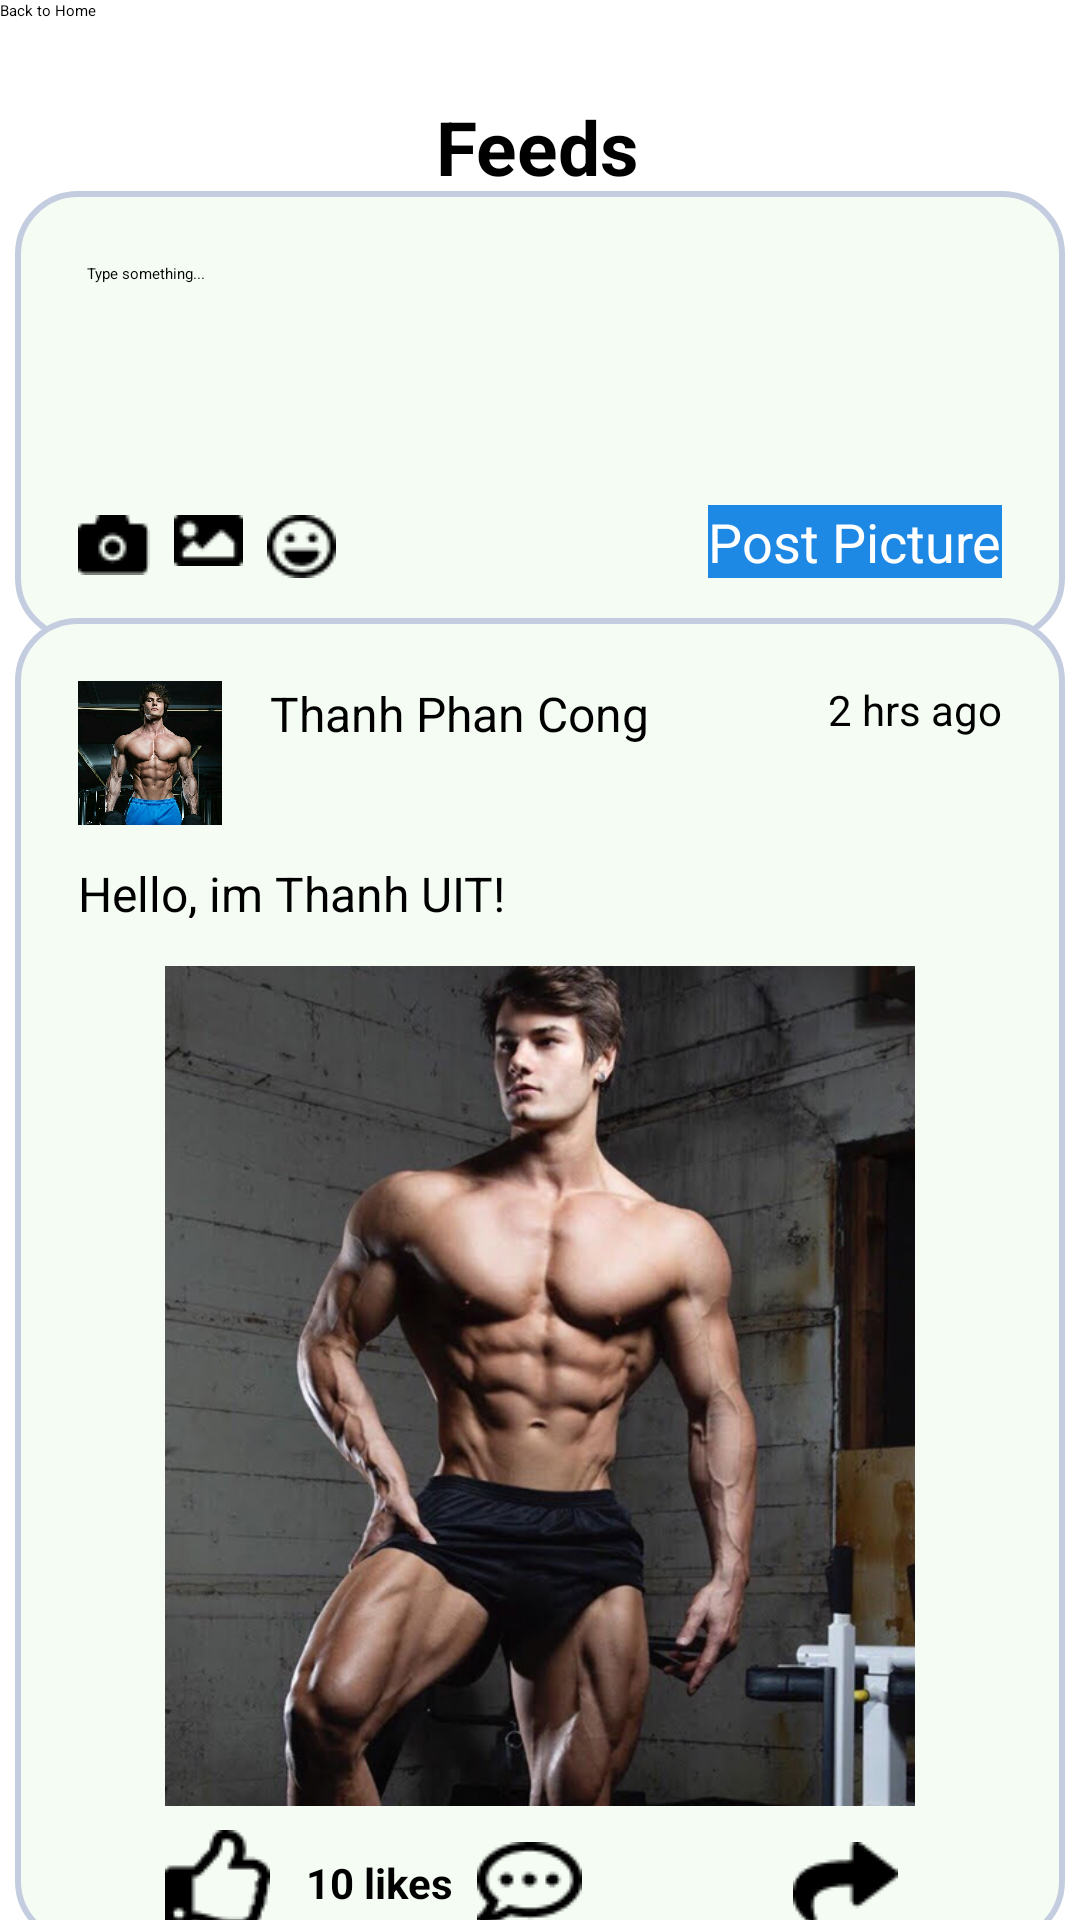

Where to tap for icons on this 1080w x 1920h app screen, as (x,y):
camera: (114,545)
Comment Icon: (529,1881)
emoji: (301,546)
galery: (208,540)
Like Icon: (217,1875)
Share Icon: (845,1881)
User Image: (150,753)
